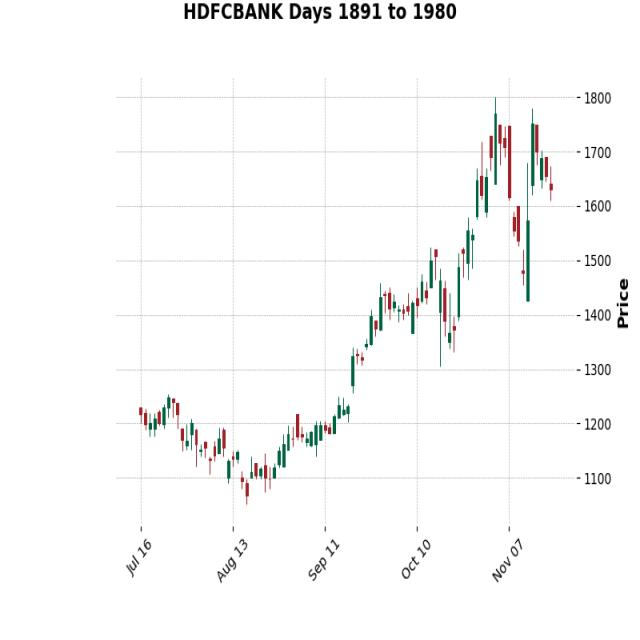Symmetric Triangle: (461, 74, 568, 307)
